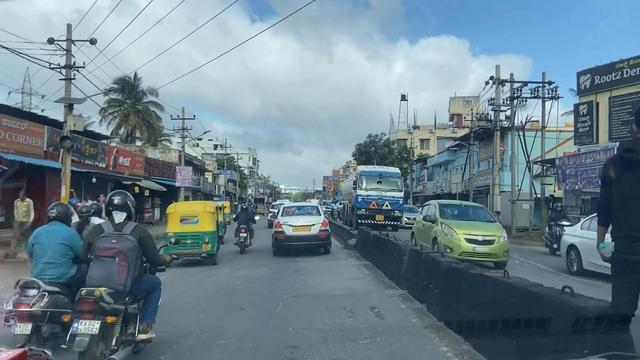LMV: (275, 200, 330, 261), (166, 202, 211, 270), (233, 205, 259, 257)
